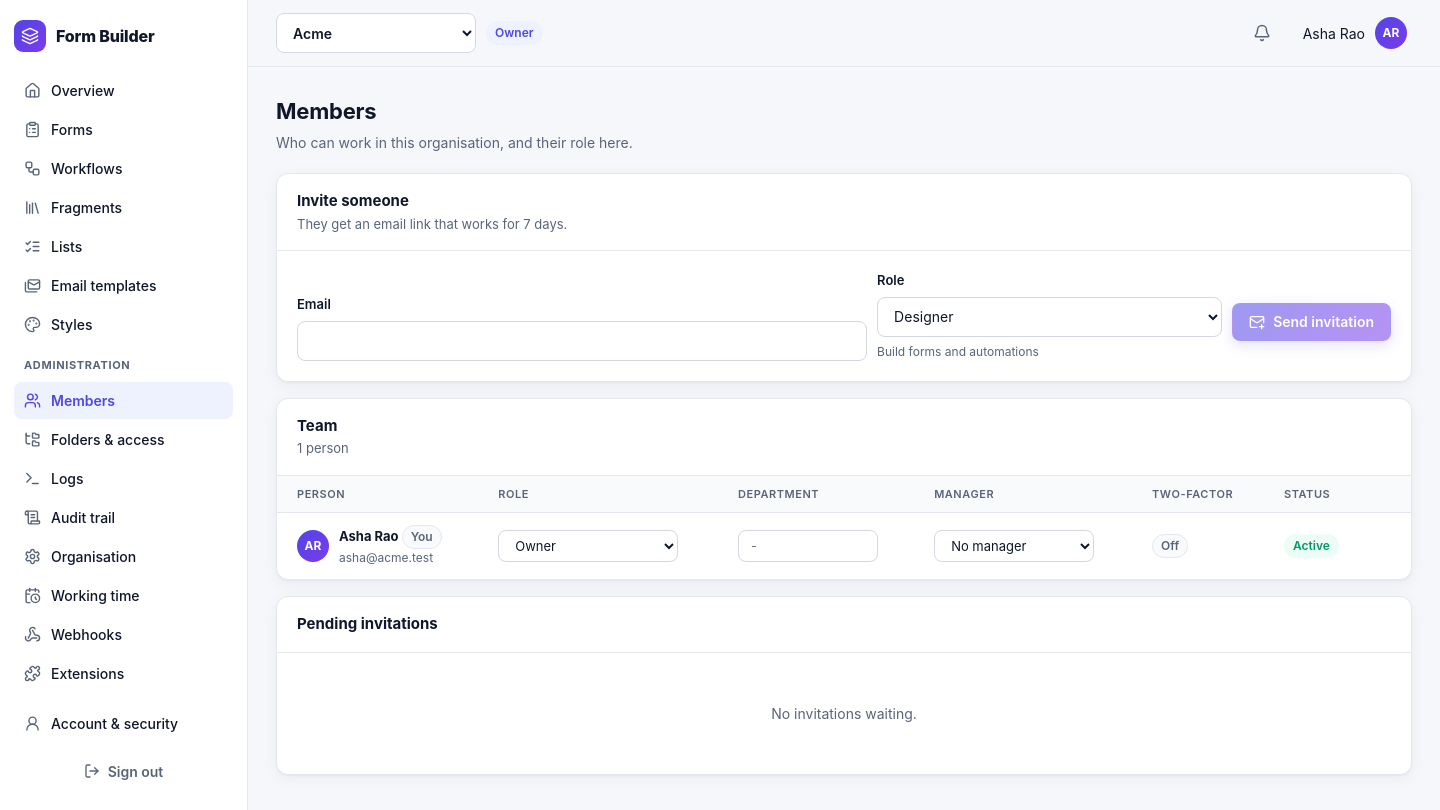
Test: studio › owners invite with a role; the list refreshes
Type "dev@acme.test" into the field labelled "Email". click: {"x": 582, "y": 340}
box: [297,320,867,360]
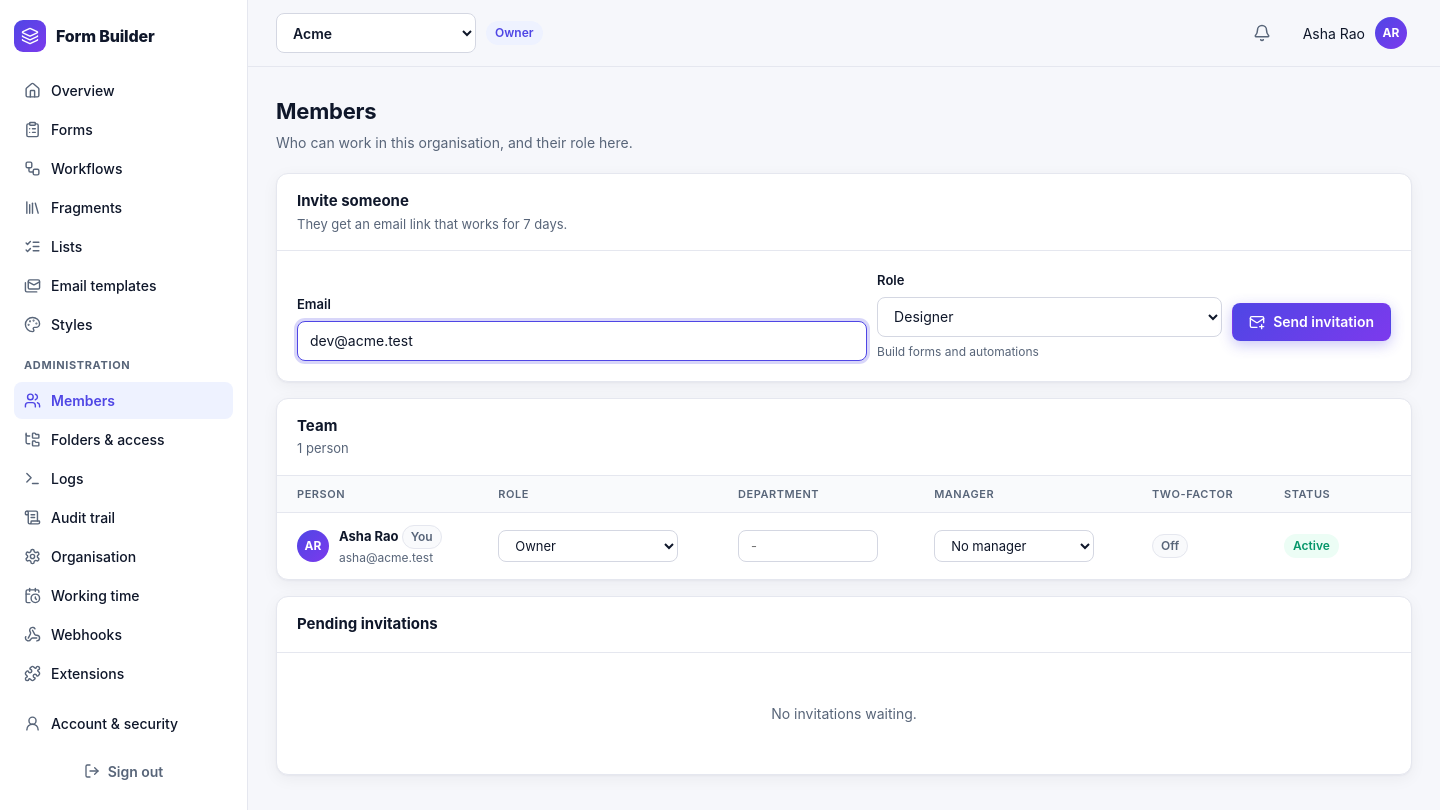
Select "Publisher" in the dropdown labelled "Role". click: {"x": 1050, "y": 316}
box: [877,296,1222,336]
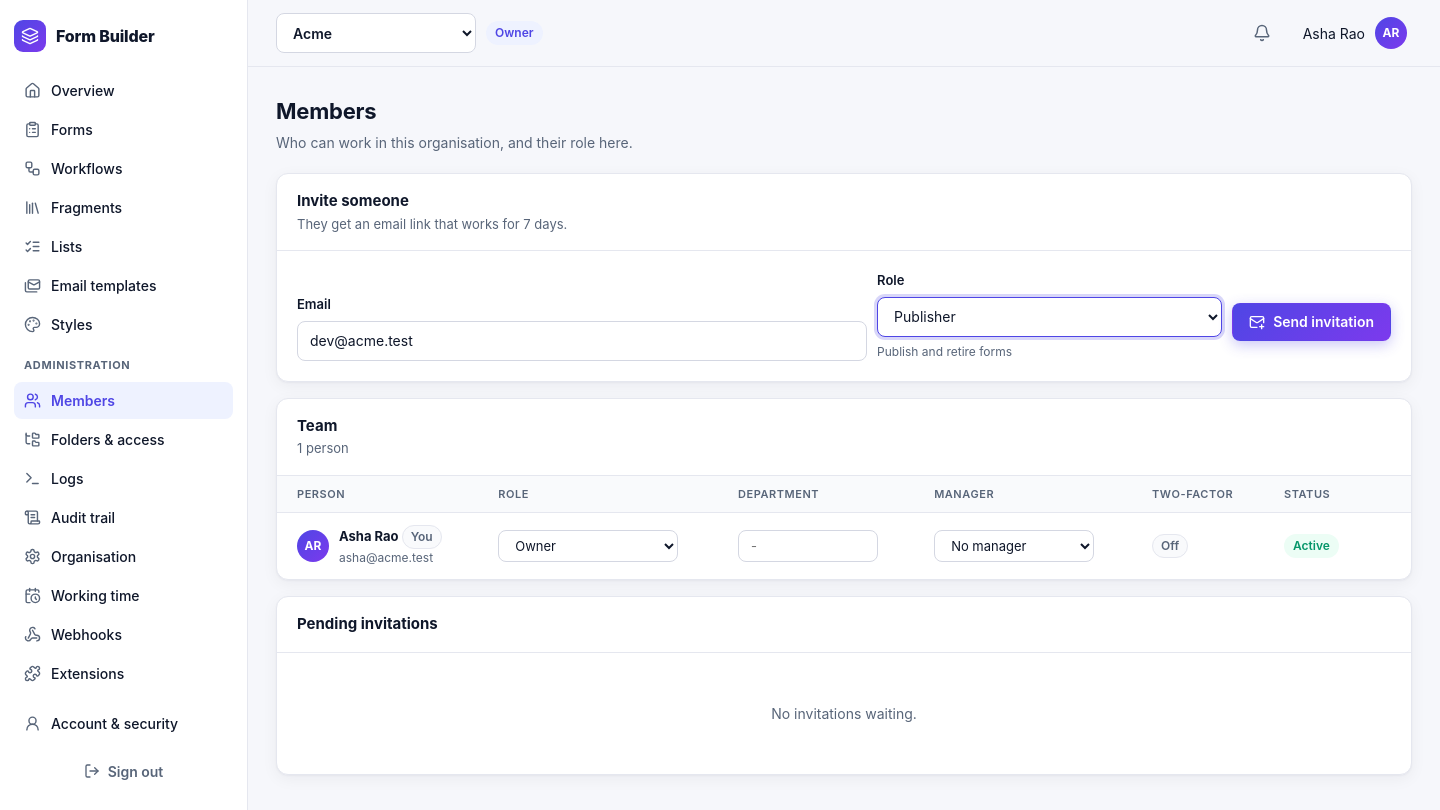
Click the button "Send invitation". click: {"x": 1312, "y": 322}
box: [1232,302,1391,340]
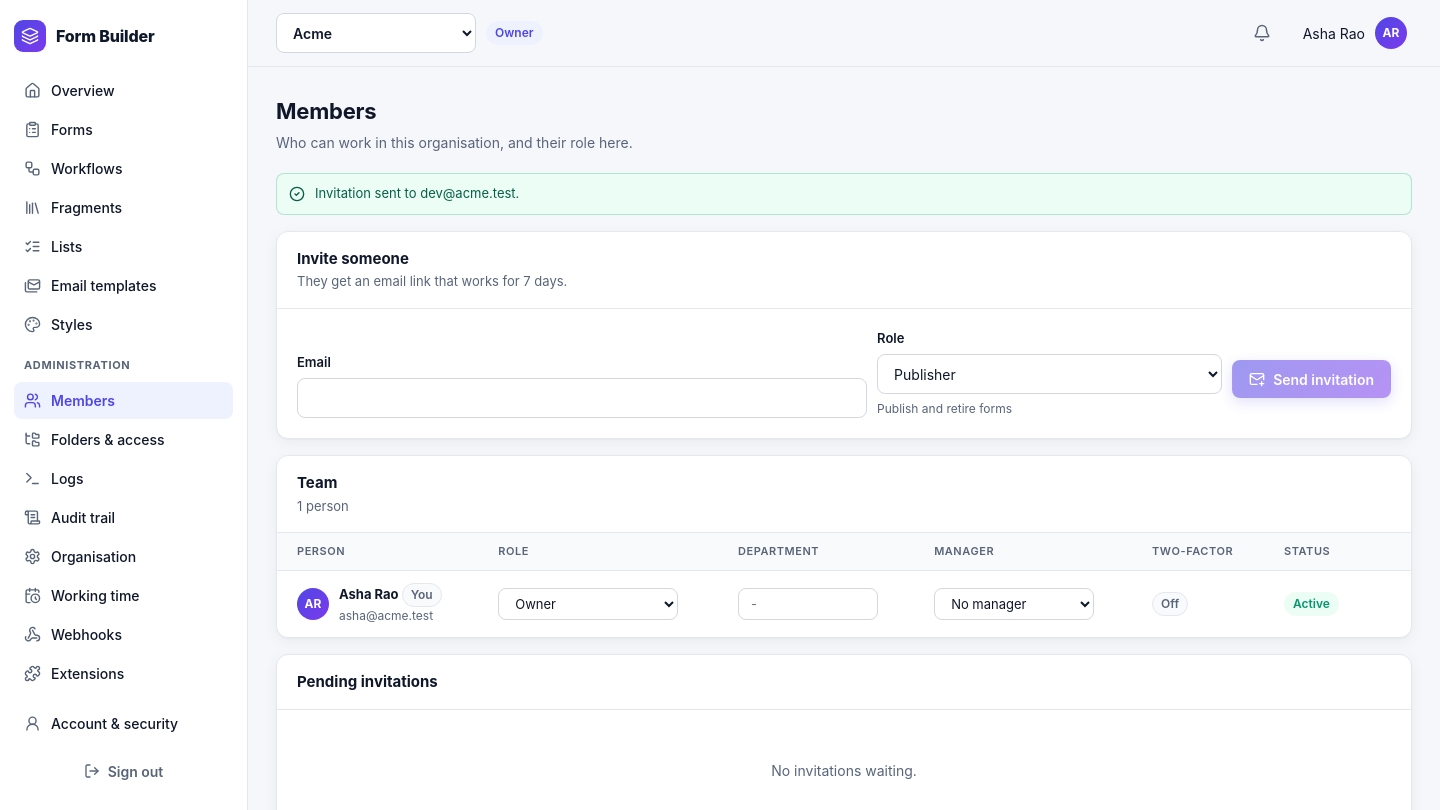
Expected: the text "Invitation sent to dev@acme.test." is shown, [315,184,519,204]
